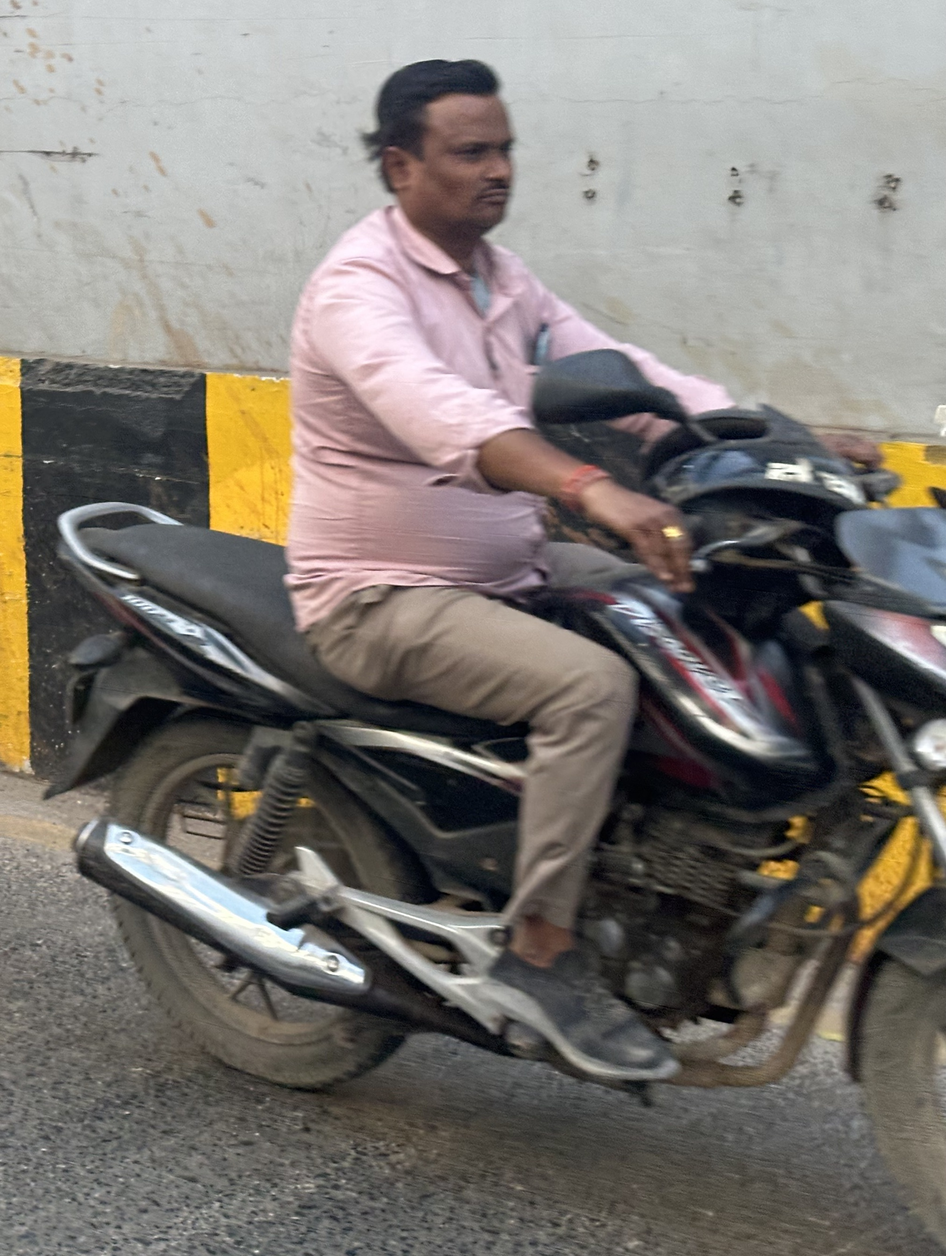BikeWithRider: (47, 55, 946, 1256)
NoHelmet: (349, 62, 554, 237)
